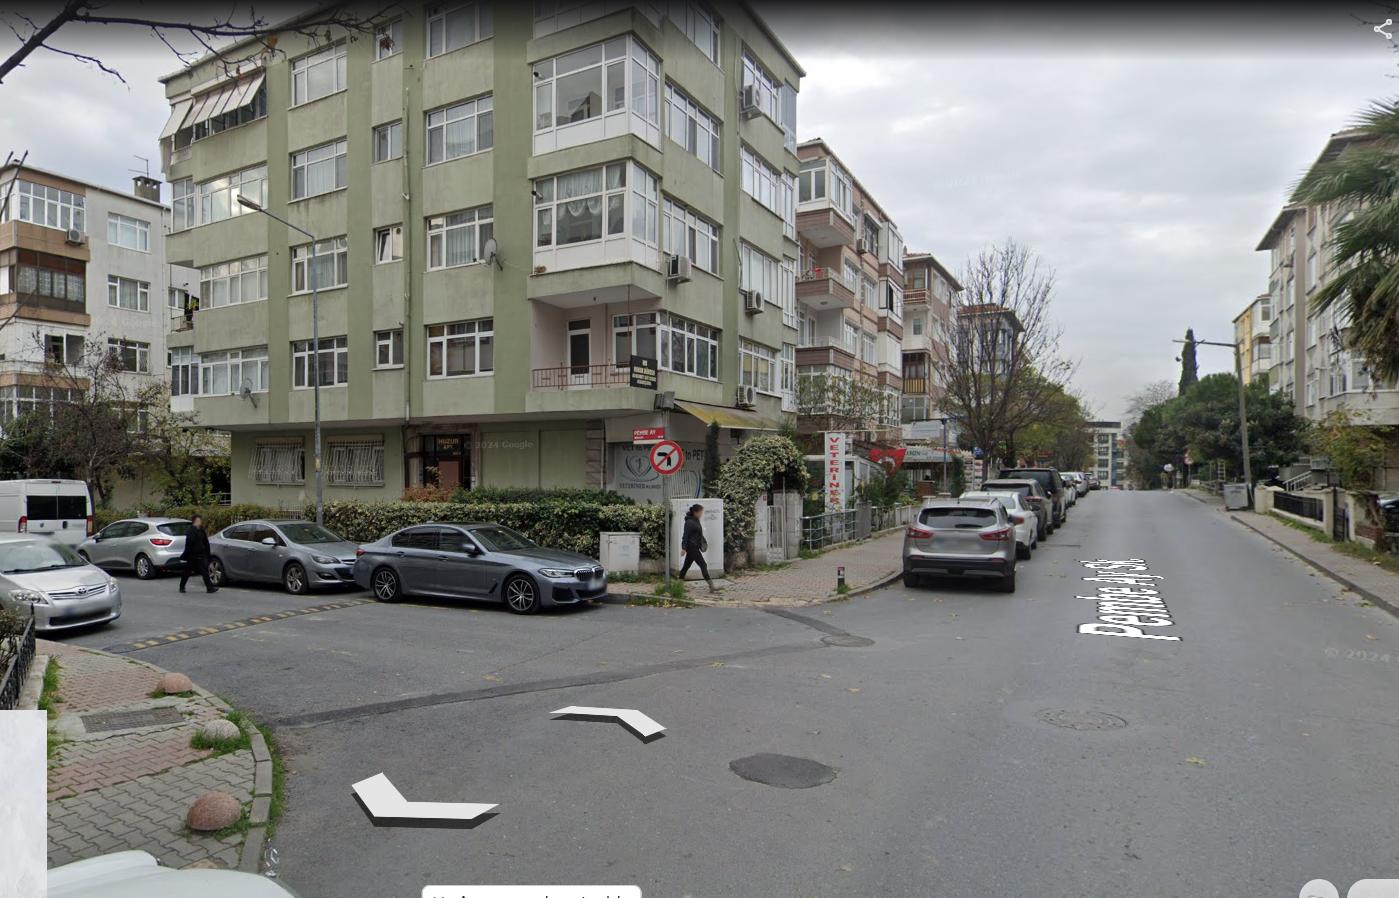leftturnsareforbidden: (653, 442, 683, 476)
